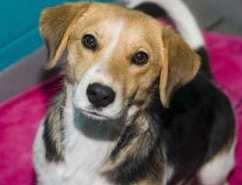Dog: (33, 2, 202, 175)
